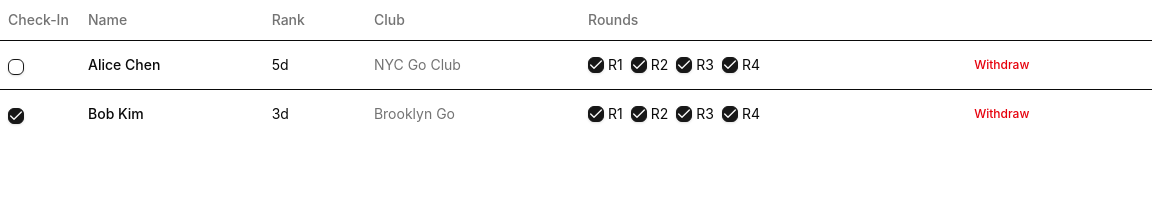
Test case: RegistrationTable › check-in › toggling check-in back to server state removes override
What coordinates should you click on to do the following:
click the checkbox named "Check in Alice Chen"
I would click on:
 (16, 66)
Its box is left=8, top=58, right=24, bottom=74.
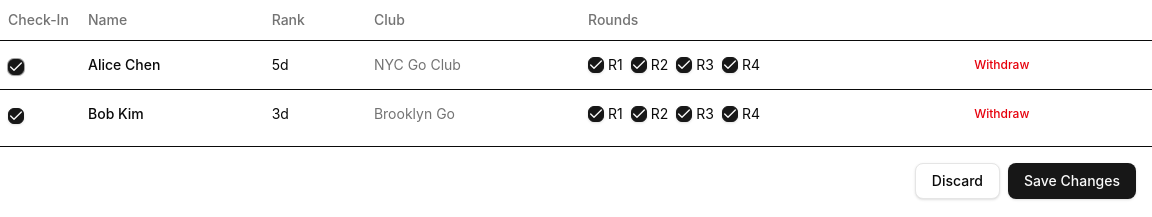
expect the button "Save Changes" is shown: met, box left=1008, top=162, right=1136, bottom=198
What coordinates should you click on to do the following:
click the checkbox named "Check in Alice Chen"
I would click on:
 (16, 66)
Its box is left=8, top=58, right=24, bottom=74.
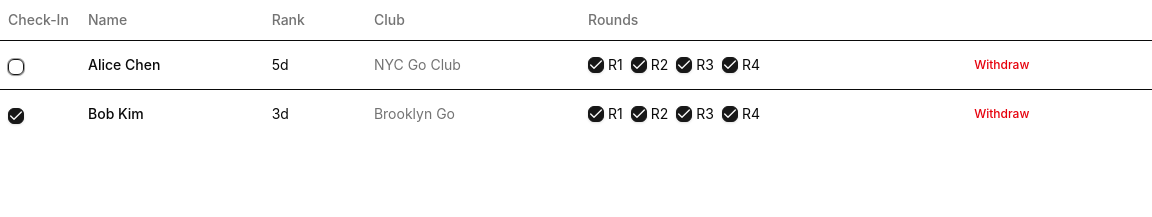
expect the button "Save Changes" is gone: met
